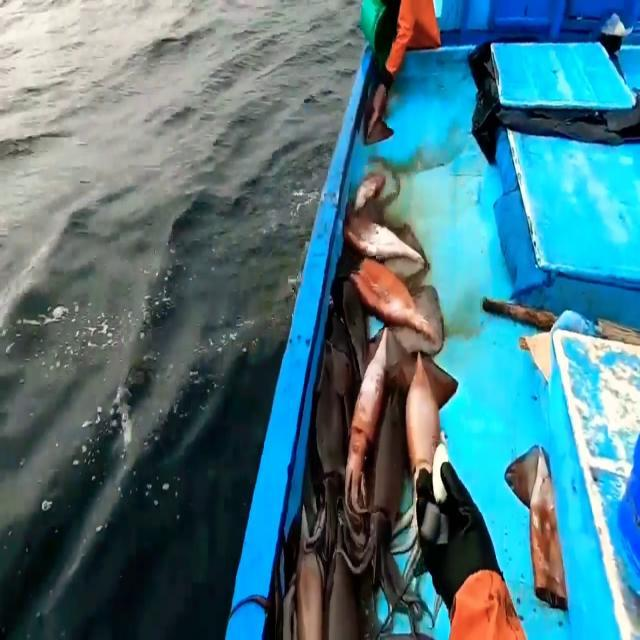squid: (336, 382, 432, 636), (392, 348, 458, 586), (339, 324, 405, 530), (342, 252, 444, 356), (307, 340, 351, 564), (278, 501, 328, 640), (342, 209, 430, 280), (362, 68, 394, 146)
